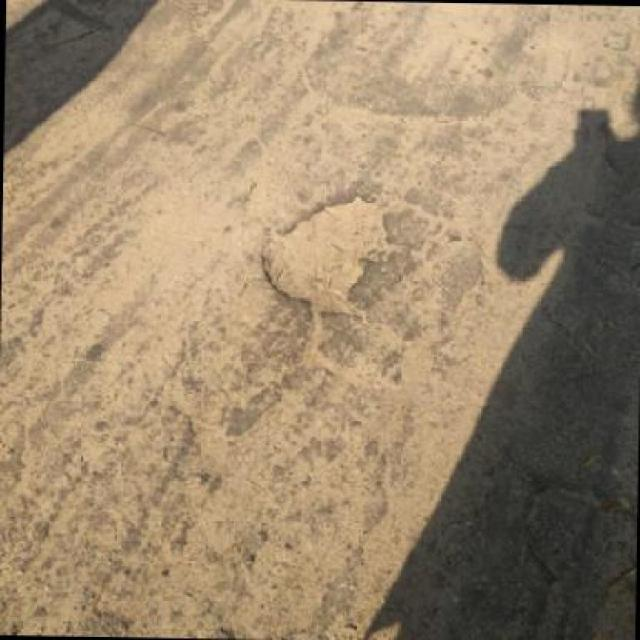pothole: (253, 188, 396, 317)
